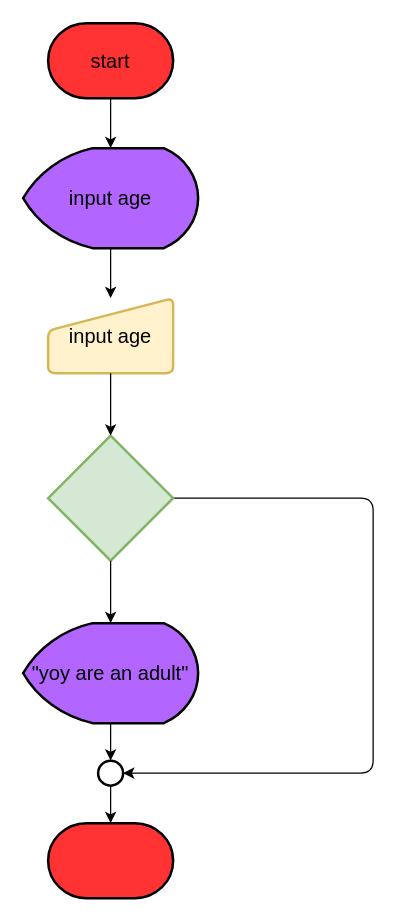
The diagram is 405 pixels wide and 920 high, and some of its shapes have lost their labels. Each missing label, with the box of its shape:
age >=18?: (46, 434, 174, 561)
stop: (46, 821, 174, 899)
